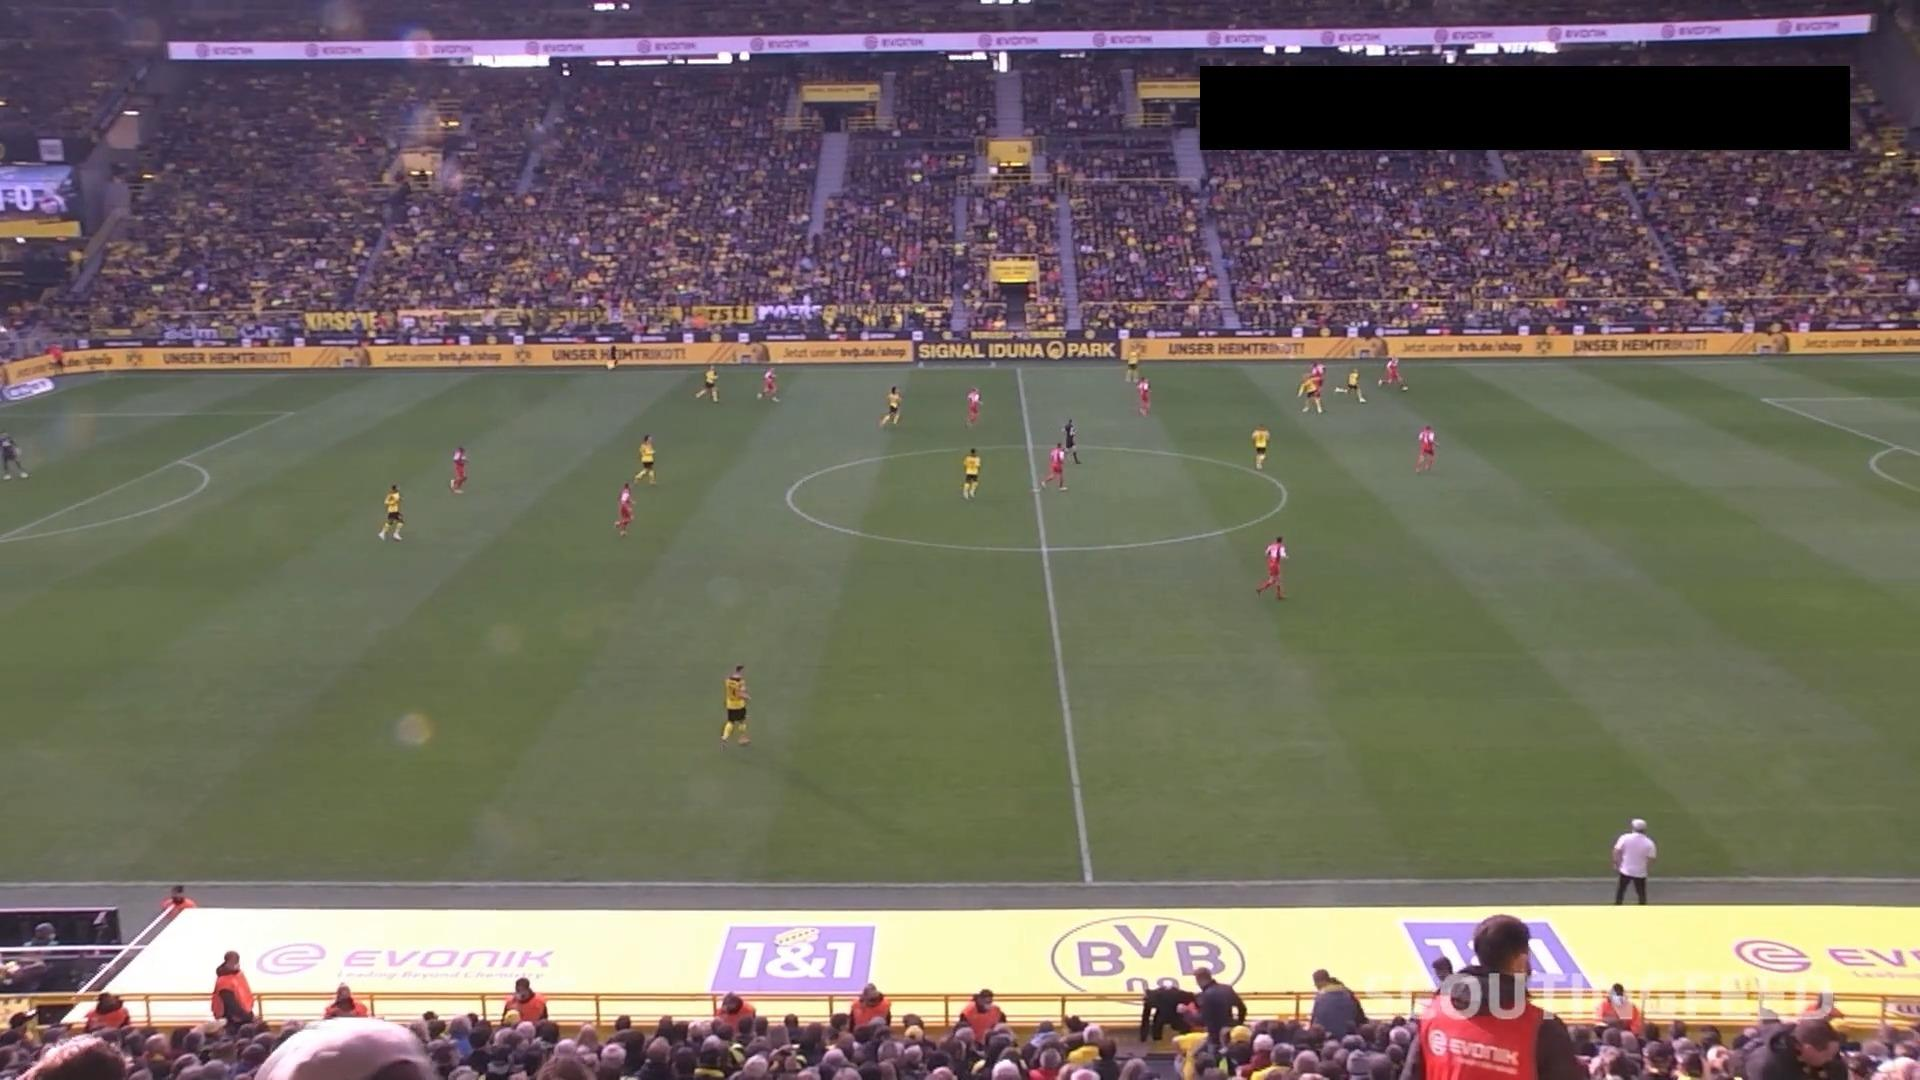coach: (1610, 817, 1656, 904), (605, 343, 618, 370)
fan: (1398, 913, 1588, 1078), (1758, 1017, 1848, 1078), (1192, 965, 1246, 1052), (1138, 976, 1196, 1041)
player: (719, 663, 751, 746), (1255, 535, 1287, 599), (377, 482, 404, 540), (1038, 442, 1068, 491), (1296, 363, 1325, 413), (0, 430, 29, 479), (1334, 366, 1366, 404), (1377, 354, 1409, 391), (614, 481, 635, 537), (634, 433, 656, 484), (960, 447, 981, 500), (1413, 424, 1436, 472), (694, 364, 720, 402), (879, 385, 901, 428), (1250, 423, 1270, 470), (449, 445, 468, 494), (756, 366, 779, 402), (964, 385, 981, 426), (1123, 346, 1141, 383), (1135, 375, 1150, 415), (1309, 361, 1325, 388)
referee: (1061, 417, 1080, 464)
